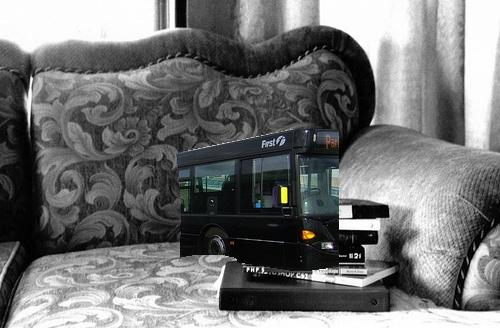tampered: (177, 130, 339, 271)
